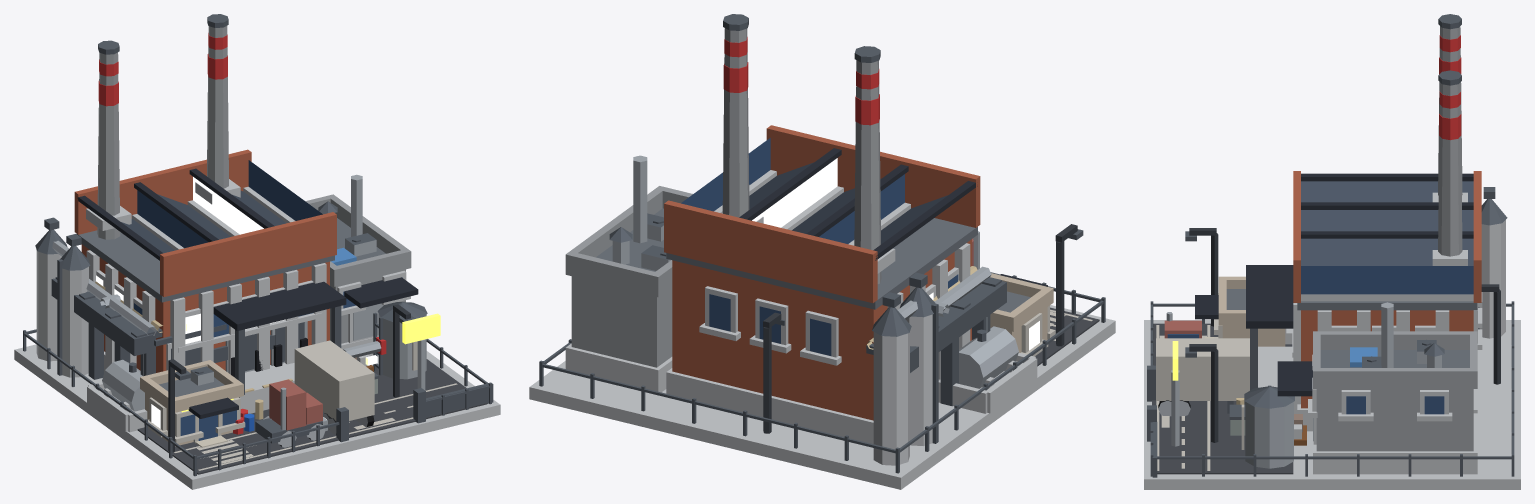
3 views of the same model, side by side, from view 1: azimuth 30°, elevation 25°; view 2: azimuth 150°, elevation 25°; view 3: azimuth 270°, elevation 25° (orthographic). The views are drawn at different scales.
Visible parts, largest first — view 1: b38_v2; view 2: b38_v2; view 3: b38_v2.
Boxes of the visible parts, x1=… form: b38_v2: x1=14, y1=14, x2=500, y2=489; b38_v2: x1=529, y1=14, x2=1115, y2=489; b38_v2: x1=1144, y1=14, x2=1520, y2=489.
Bounding box in the file's own units: 0.9625 × 0.965 × 0.96.
